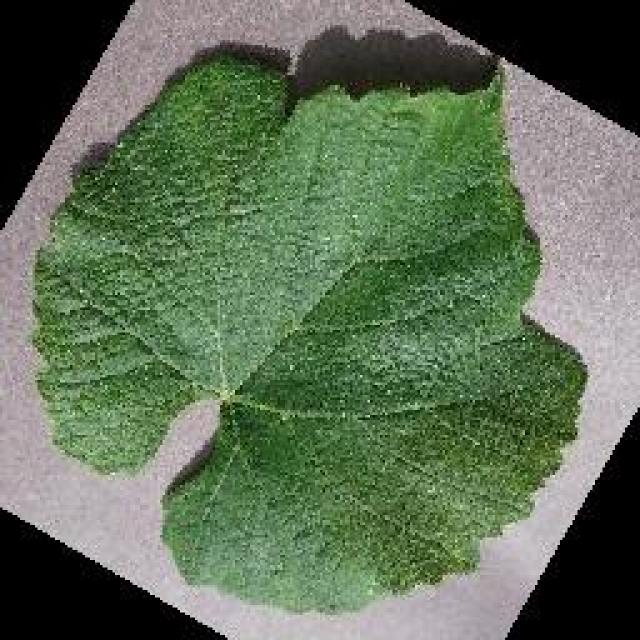Grape___healthy: (32, 52, 582, 610)
